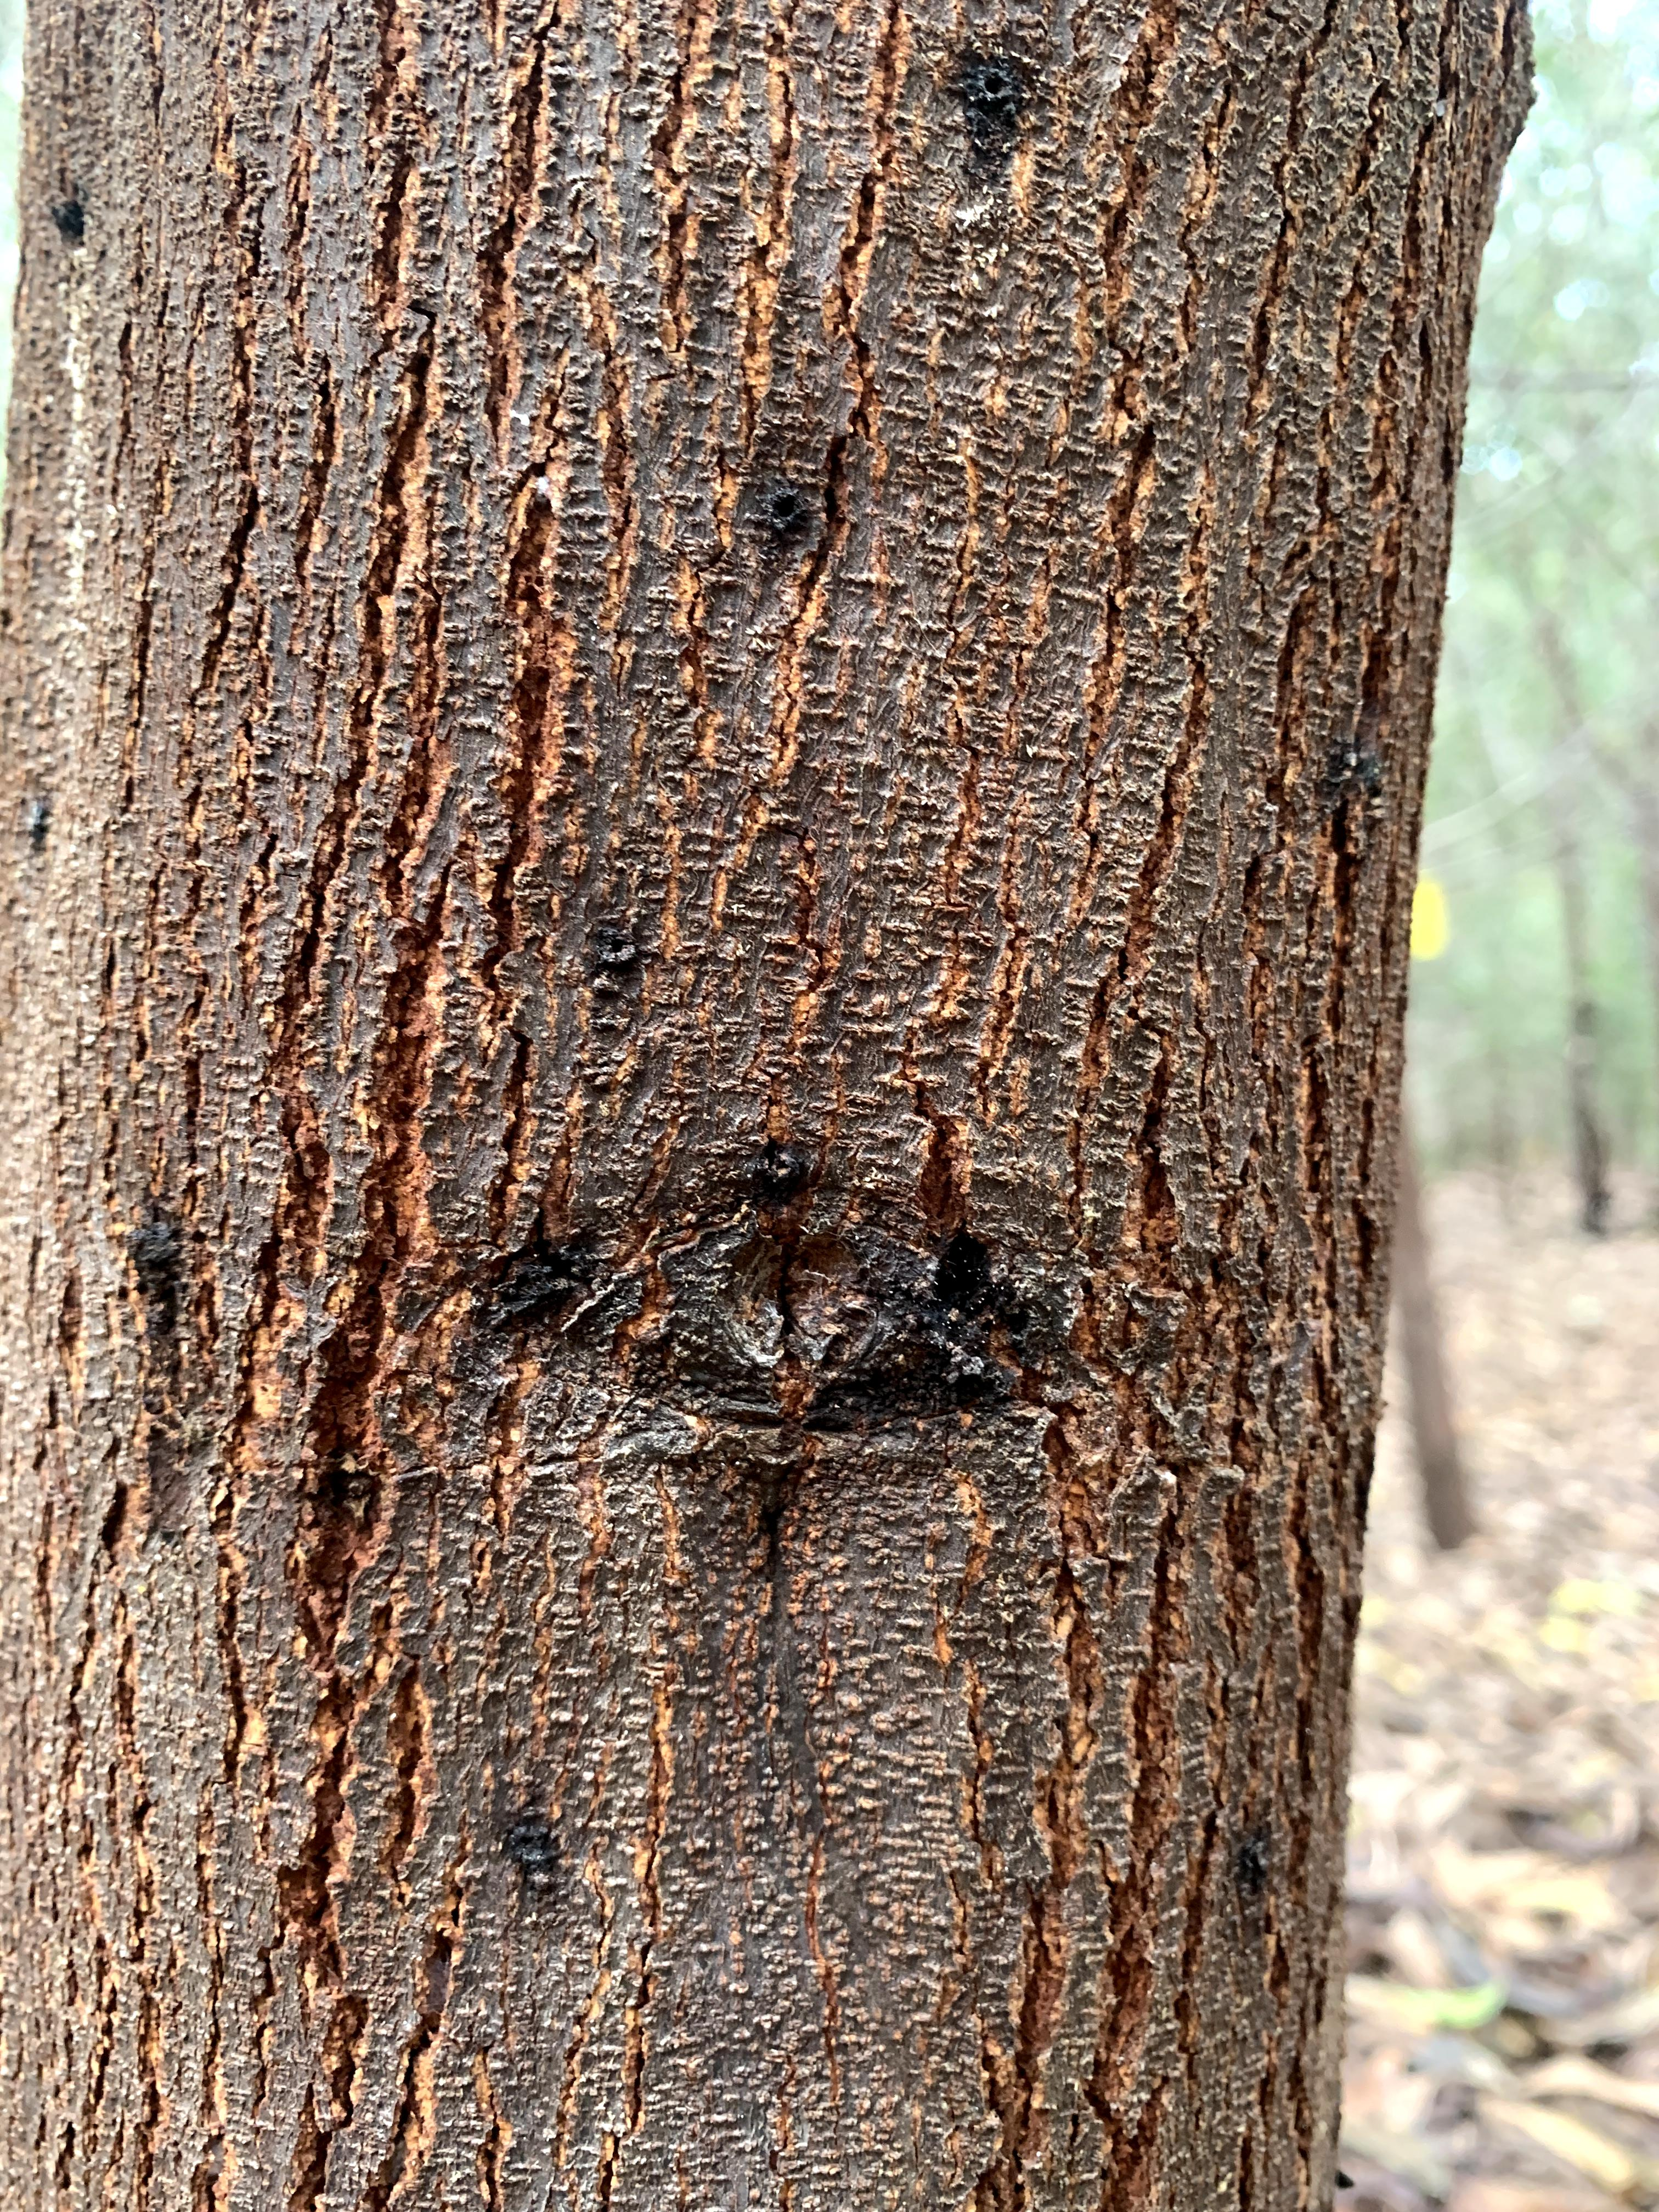Stem Borer: (451, 1038, 1096, 1632)
